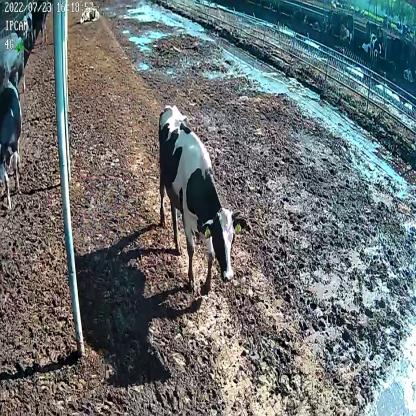cow: (156, 104, 247, 285), (80, 4, 100, 26)
